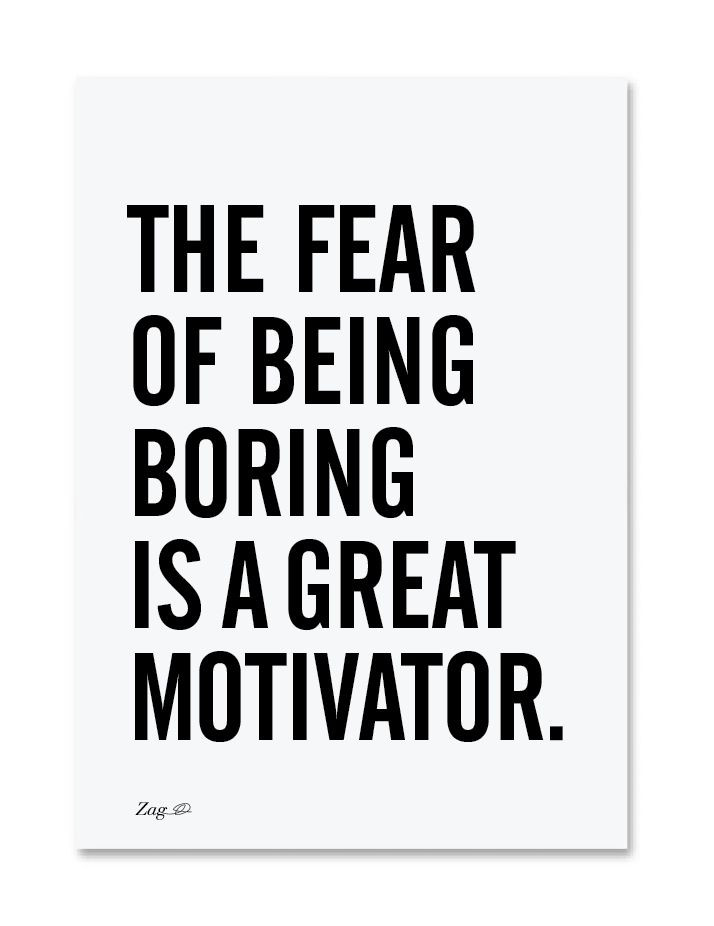latin: (125, 194, 568, 747)
